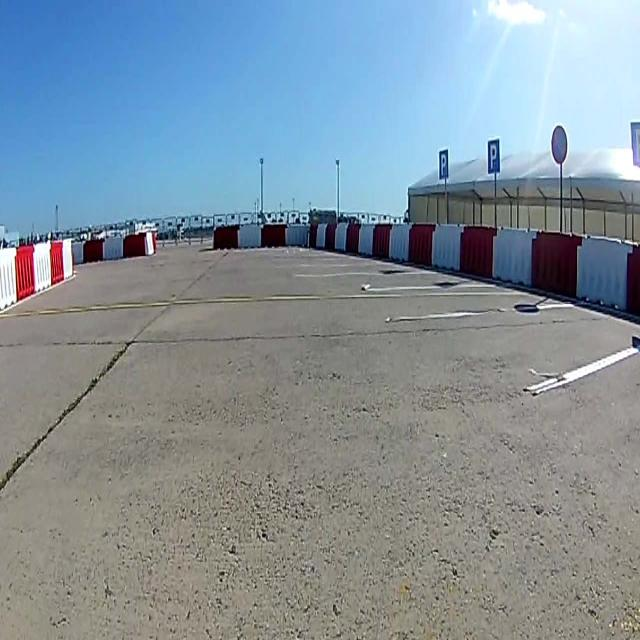park: (487, 139, 500, 173), (438, 148, 448, 180)
parkyasak: (550, 124, 568, 166)
